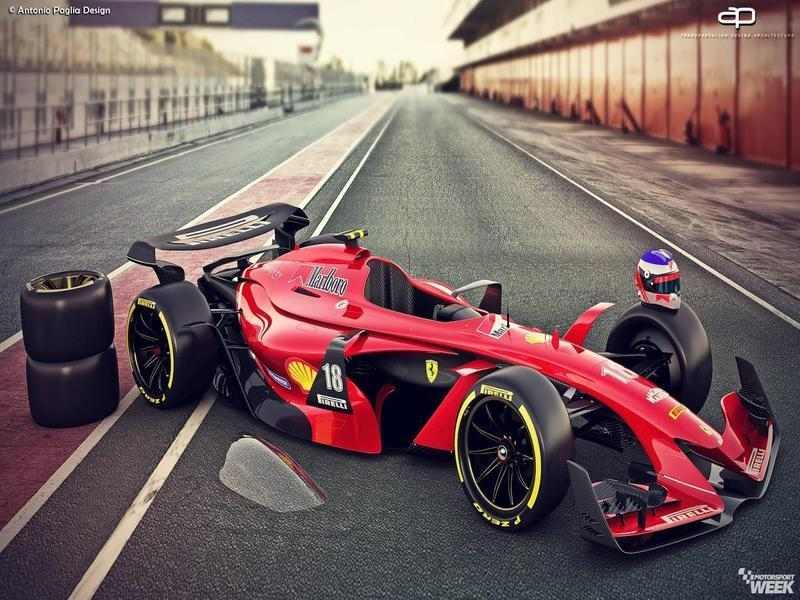f1: (110, 186, 800, 579)
